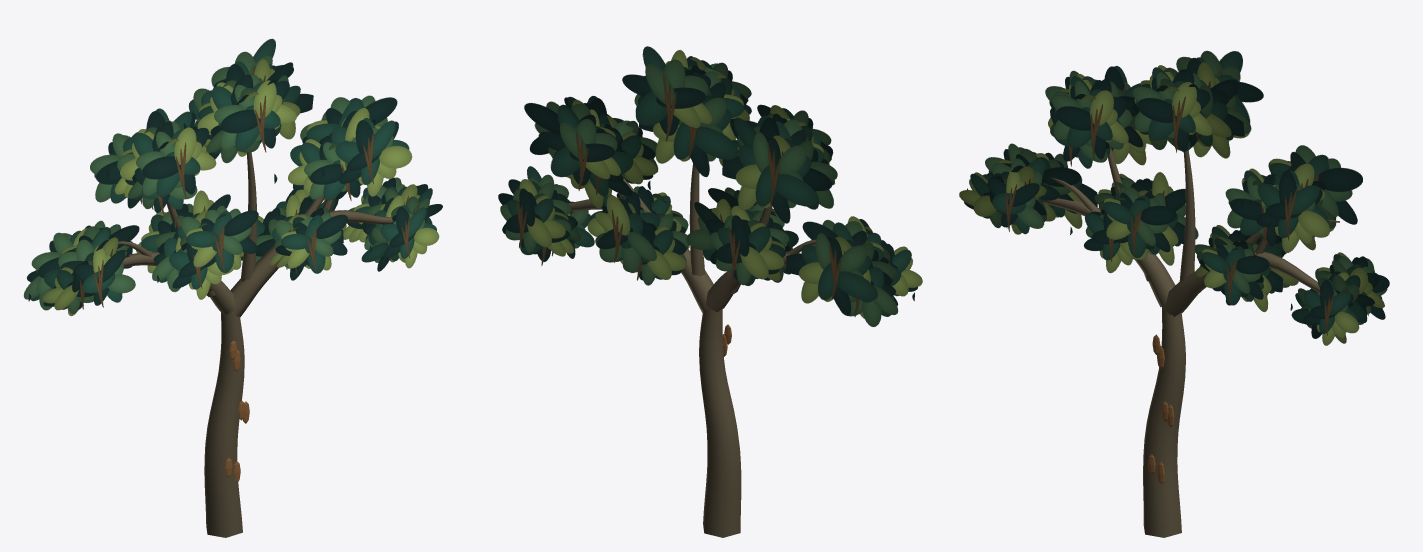
File: TREE_EUCALYPTUS_001_LOD_CLOSE.glb
3 views of the same model, side by side, from view 1: azimuth 30°, elevation 25°; view 2: azimuth 150°, elevation 25°; view 3: azimuth 330°, elevation 25° (orthographic). The views are drawn at different scales.
Visible parts, largest first — view 1: GG_EUC_V4_MAIN_TRUNK, GG_EUC_FRONT_ISLAND_02_CLUSTER_01, GG_EUC_FRONT_ISLAND_01_CLUSTER_02, GG_EUC_FRONT_ISLAND_03_CLUSTER_02, GG_EUC_FRONT_ISLAND_05_CLUSTER_02, GG_EUC_FRONT_ISLAND_06_CLUSTER_01, GG_EUC_FRONT_ISLAND_04_CLUSTER_01, GG_EUC_FRONT_ISLAND_00_CLUSTER_01, GG_EUC_V4_RIGHT_PRIMARY, GG_EUC_FRONT_ISLAND_03_CLUSTER_00, GG_EUC_REAR_ISLAND_03_CLUSTER_02, GG_EUC_FRONT_ISLAND_05_CLUSTER_00 (+27 smaller); view 2: GG_EUC_V4_MAIN_TRUNK, GG_EUC_REAR_ISLAND_01_CLUSTER_01, GG_EUC_REAR_ISLAND_02_CLUSTER_02, GG_EUC_REAR_ISLAND_00_CLUSTER_02, GG_EUC_REAR_ISLAND_03_CLUSTER_01, GG_EUC_REAR_ISLAND_02_CLUSTER_00, GG_EUC_REAR_ISLAND_05_CLUSTER_01, GG_EUC_REAR_ISLAND_06_CLUSTER_02, GG_EUC_REAR_ISLAND_04_CLUSTER_02, GG_EUC_REAR_ISLAND_06_CLUSTER_00, GG_EUC_REAR_ISLAND_03_CLUSTER_02, GG_EUC_REAR_ISLAND_01_CLUSTER_00 (+24 smaller); view 3: GG_EUC_V4_MAIN_TRUNK, GG_EUC_FRONT_ISLAND_02_CLUSTER_01, GG_EUC_FRONT_ISLAND_01_CLUSTER_02, GG_EUC_FRONT_ISLAND_03_CLUSTER_02, GG_EUC_FRONT_ISLAND_05_CLUSTER_02, GG_EUC_FRONT_ISLAND_06_CLUSTER_01, GG_EUC_REAR_ISLAND_03_CLUSTER_02, GG_EUC_FRONT_ISLAND_04_CLUSTER_01, GG_EUC_FRONT_ISLAND_00_CLUSTER_01, GG_EUC_FRONT_ISLAND_03_CLUSTER_00, GG_EUC_V4_RIGHT_PRIMARY, GG_EUC_FRONT_ISLAND_02_CLUSTER_02 (+24 smaller).
Boxes of the visible parts, box(x1,y1,x2,y2) form: GG_EUC_V4_MAIN_TRUNK: box(204, 312, 244, 537); GG_EUC_FRONT_ISLAND_02_CLUSTER_01: box(214, 80, 296, 152); GG_EUC_FRONT_ISLAND_01_CLUSTER_02: box(136, 127, 216, 198); GG_EUC_FRONT_ISLAND_03_CLUSTER_02: box(321, 118, 412, 196); GG_EUC_FRONT_ISLAND_05_CLUSTER_02: box(186, 208, 258, 272); GG_EUC_FRONT_ISLAND_06_CLUSTER_01: box(281, 213, 347, 273); GG_EUC_FRONT_ISLAND_04_CLUSTER_01: box(370, 205, 439, 268); GG_EUC_FRONT_ISLAND_00_CLUSTER_01: box(75, 246, 135, 307); GG_EUC_V4_RIGHT_PRIMARY: box(230, 210, 393, 317); GG_EUC_FRONT_ISLAND_03_CLUSTER_00: box(304, 138, 360, 201); GG_EUC_REAR_ISLAND_03_CLUSTER_02: box(306, 95, 397, 142); GG_EUC_FRONT_ISLAND_05_CLUSTER_00: box(157, 242, 235, 299); GG_EUC_V4_MAIN_TRUNK: box(699, 308, 741, 537); GG_EUC_REAR_ISLAND_01_CLUSTER_01: box(722, 132, 818, 223); GG_EUC_REAR_ISLAND_02_CLUSTER_02: box(622, 46, 712, 141); GG_EUC_REAR_ISLAND_00_CLUSTER_02: box(786, 233, 877, 315); GG_EUC_REAR_ISLAND_03_CLUSTER_01: box(538, 107, 620, 190); GG_EUC_REAR_ISLAND_02_CLUSTER_00: box(639, 97, 738, 177); GG_EUC_REAR_ISLAND_05_CLUSTER_01: box(710, 215, 784, 285); GG_EUC_REAR_ISLAND_06_CLUSTER_02: box(595, 195, 656, 272); GG_EUC_REAR_ISLAND_04_CLUSTER_02: box(500, 188, 565, 252); GG_EUC_REAR_ISLAND_06_CLUSTER_00: box(622, 219, 686, 285); GG_EUC_REAR_ISLAND_03_CLUSTER_02: box(524, 101, 615, 178); GG_EUC_REAR_ISLAND_01_CLUSTER_00: box(765, 135, 837, 209); GG_EUC_V4_MAIN_TRUNK: box(1143, 306, 1185, 537); GG_EUC_FRONT_ISLAND_02_CLUSTER_01: box(1132, 72, 1212, 152); GG_EUC_FRONT_ISLAND_01_CLUSTER_02: box(1051, 80, 1128, 160); GG_EUC_FRONT_ISLAND_03_CLUSTER_02: box(1240, 170, 1330, 252); GG_EUC_FRONT_ISLAND_05_CLUSTER_02: box(1103, 187, 1176, 257); GG_EUC_FRONT_ISLAND_06_CLUSTER_01: box(1201, 238, 1269, 305); GG_EUC_REAR_ISLAND_03_CLUSTER_02: box(1269, 145, 1362, 224); GG_EUC_FRONT_ISLAND_04_CLUSTER_01: box(1290, 279, 1359, 345); GG_EUC_FRONT_ISLAND_00_CLUSTER_01: box(988, 168, 1044, 234); GG_EUC_FRONT_ISLAND_03_CLUSTER_00: box(1225, 176, 1278, 246); GG_EUC_V4_RIGHT_PRIMARY: box(1162, 250, 1320, 316); GG_EUC_FRONT_ISLAND_02_CLUSTER_02: box(1158, 78, 1244, 157).
Bounding box in the file's own units: 6.46 × 7.16 × 0.8615.
3 materials, 1 textured.
